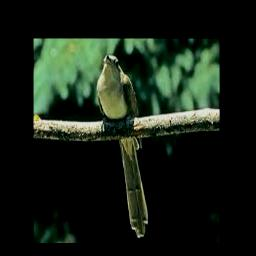Cuckoo: (96, 55, 148, 238)
